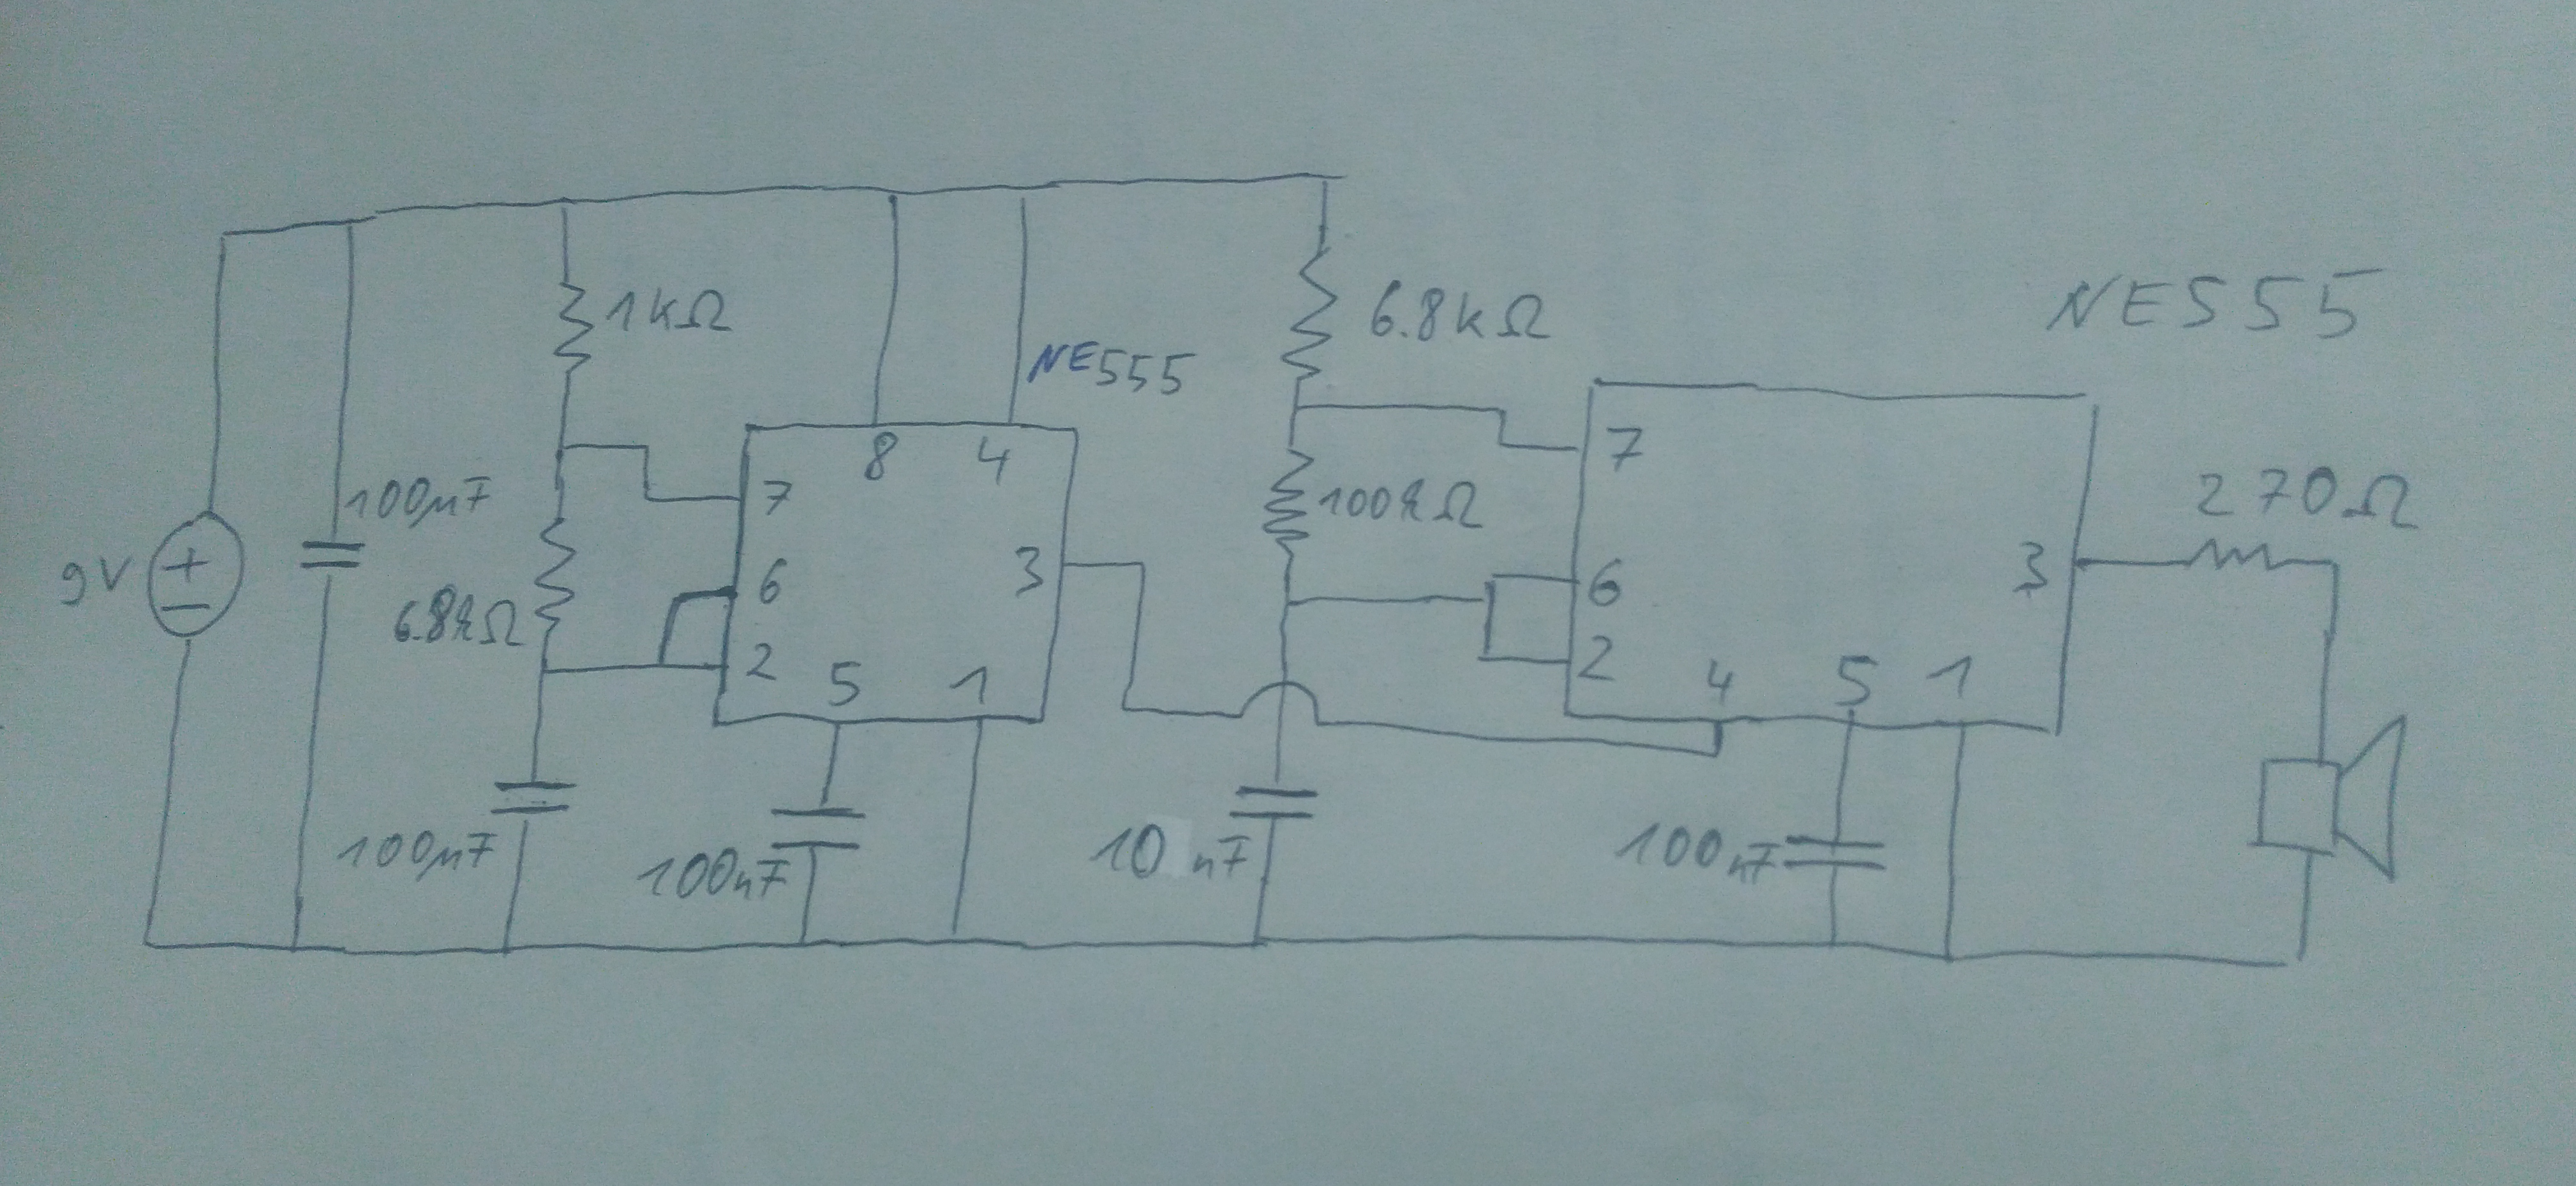capacitor.unpolarized: (761, 807, 872, 851), (1779, 830, 1888, 872), (485, 777, 582, 820), (1224, 782, 1321, 823), (296, 537, 368, 572)
crossover: (1234, 675, 1332, 734)
integrated_cricuit.ne555: (1557, 375, 2106, 741), (710, 419, 1088, 729)
junction: (2272, 940, 2323, 982), (1281, 391, 1318, 427), (1272, 583, 1304, 623), (1308, 163, 1344, 195), (1239, 923, 1276, 954), (210, 222, 245, 255), (1930, 941, 1968, 971), (876, 179, 910, 210), (2318, 552, 2353, 583), (1005, 179, 1042, 209), (1815, 926, 1853, 954), (1470, 637, 1500, 669), (940, 922, 969, 953), (550, 191, 580, 220), (1487, 427, 1516, 457), (335, 212, 365, 240), (1488, 398, 1516, 427), (1480, 565, 1510, 593), (1474, 586, 1502, 614), (1699, 742, 1728, 769), (669, 586, 695, 614), (790, 930, 816, 958), (1112, 695, 1138, 721), (549, 434, 577, 458), (494, 936, 522, 961), (1127, 552, 1152, 578), (135, 930, 161, 954), (281, 936, 307, 961), (637, 485, 660, 509), (532, 660, 557, 683), (634, 437, 657, 460), (649, 657, 672, 677)
resistor: (1278, 241, 1341, 386), (1260, 442, 1318, 560), (532, 513, 577, 629), (2177, 534, 2288, 580), (552, 276, 596, 381)
speaker: (2249, 711, 2415, 885)
text: (2037, 264, 2389, 342), (2193, 465, 2425, 532), (1367, 278, 1556, 345), (1613, 820, 1787, 887), (1023, 337, 1199, 398), (389, 578, 526, 652), (1086, 825, 1253, 884), (1316, 476, 1487, 532), (335, 826, 501, 884), (636, 846, 793, 903), (343, 473, 498, 531), (601, 284, 738, 337), (53, 549, 136, 611), (1924, 649, 1976, 708), (2012, 536, 2054, 598), (1833, 652, 1878, 710), (1602, 421, 1644, 480), (1587, 555, 1628, 613), (1579, 629, 1620, 683), (861, 429, 900, 483), (976, 430, 1012, 488), (1702, 654, 1741, 706), (826, 655, 864, 710), (946, 660, 989, 706), (1012, 544, 1046, 600), (743, 639, 782, 685), (757, 555, 789, 609), (757, 475, 792, 519)
voltage.dc: (143, 503, 246, 652)
